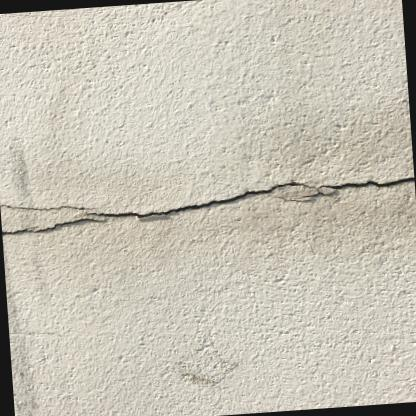crack: (86, 195, 241, 218), (1, 218, 104, 236), (0, 205, 99, 211)
